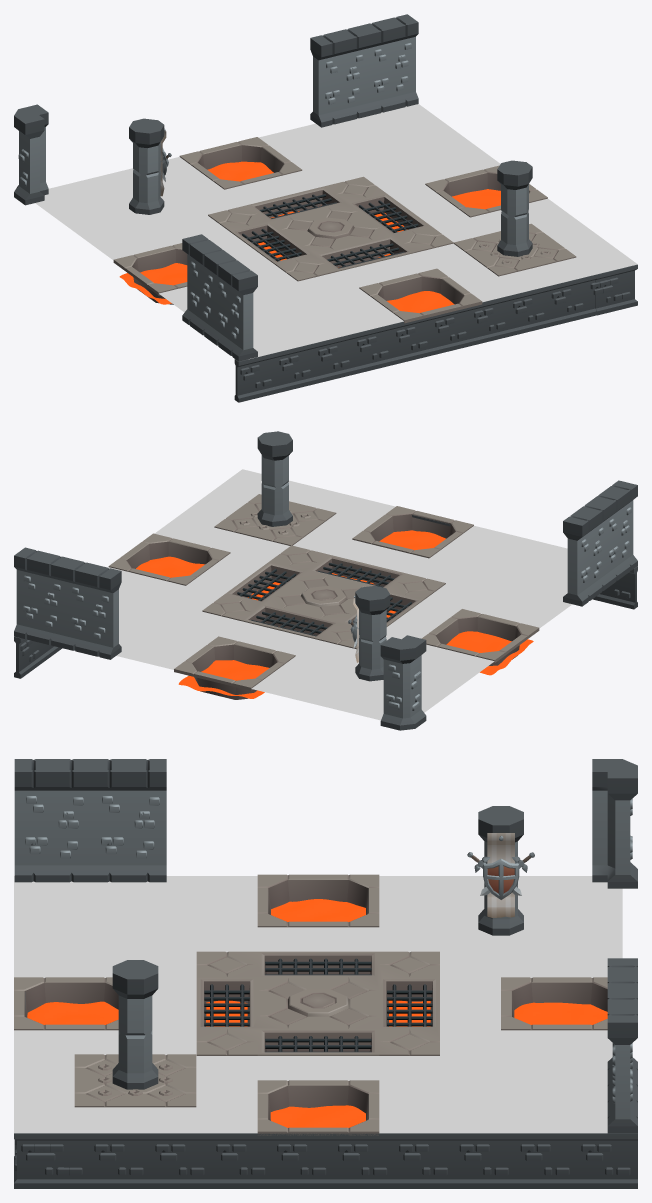
Rendered from lvl1.glb.
3 views of the same model, one above another, from view 1: azimuth 30°, elevation 25°; view 2: azimuth 150°, elevation 25°; view 3: azimuth 270°, elevation 25° (orthographic). The views are drawn at different scales.
Visible parts, largest first — view 1: Plane.003, floor_foundation_front_and_back.001, floor_tile_extralarge_grates.001, wall.008, floor_tile_big_grate.001, wall.007, lAVA, pillar_decorated.001, pillar.002, wall_corner_small.001, floor_tile_big_spikes.001, floor_foundation_corner.001; view 2: Plane.003, floor_tile_extralarge_grates.001, floor_tile_big_grate.001, wall.008, wall.007, lAVA, wall_corner_small.001, pillar_decorated.001, pillar.002, floor_tile_big_spikes.001, floor_foundation_front_and_back.001, floor_foundation_front_and_back.002; view 3: Plane.003, floor_foundation_front_and_back.002, floor_tile_extralarge_grates.001, wall.007, floor_tile_big_grate.001, lAVA, wall_corner_small.001, pillar_decorated.001, floor_tile_big_spikes.001, wall.008, pillar.002, floor_foundation_corner.001.
Boxes of the visible parts, x1,y1,x2,y2 form: Plane.003: (35,104,637,359); floor_foundation_front_and_back.001: (234,274,622,402); floor_tile_extralarge_grates.001: (208,176,453,281); wall.008: (310,14,418,127); floor_tile_big_grate.001: (113,137,547,323); wall.007: (182,234,257,361); lAVA: (119,161,500,313); pillar_decorated.001: (129,118,171,214); pillar.002: (497,160,532,256); wall_corner_small.001: (14,104,48,205); floor_tile_big_spikes.001: (453,223,576,276); floor_foundation_corner.001: (595,264,637,315); Plane.003: (108,469,571,720); floor_tile_extralarge_grates.001: (202,545,445,649); floor_tile_big_grate.001: (108,506,539,699); wall.008: (14,547,121,659); wall.007: (563,480,637,606); lAVA: (136,530,533,698); wall_corner_small.001: (380,635,426,730); pillar_decorated.001: (348,585,390,681); pillar.002: (257,431,292,526); floor_tile_big_spikes.001: (214,494,336,545); floor_foundation_front_and_back.001: (412,515,637,609); floor_foundation_front_and_back.002: (14,636,61,678); Plane.003: (14,876,622,1133); floor_foundation_front_and_back.002: (29,1133,637,1188); floor_tile_extralarge_grates.001: (196,951,439,1055); wall.007: (14,759,166,882); floor_tile_big_grate.001: (14,874,607,1135); lAVA: (27,899,607,1127); wall_corner_small.001: (592,759,637,888); pillar_decorated.001: (467,806,534,935); floor_tile_big_spikes.001: (74,1054,196,1107); wall.008: (607,958,637,1133); pillar.002: (112,960,158,1089); floor_foundation_corner.001: (14,1133,77,1188).
Bounding box in the file's own units: 20.5 × 6.07 × 20.5.
10 materials, 9 textured.
